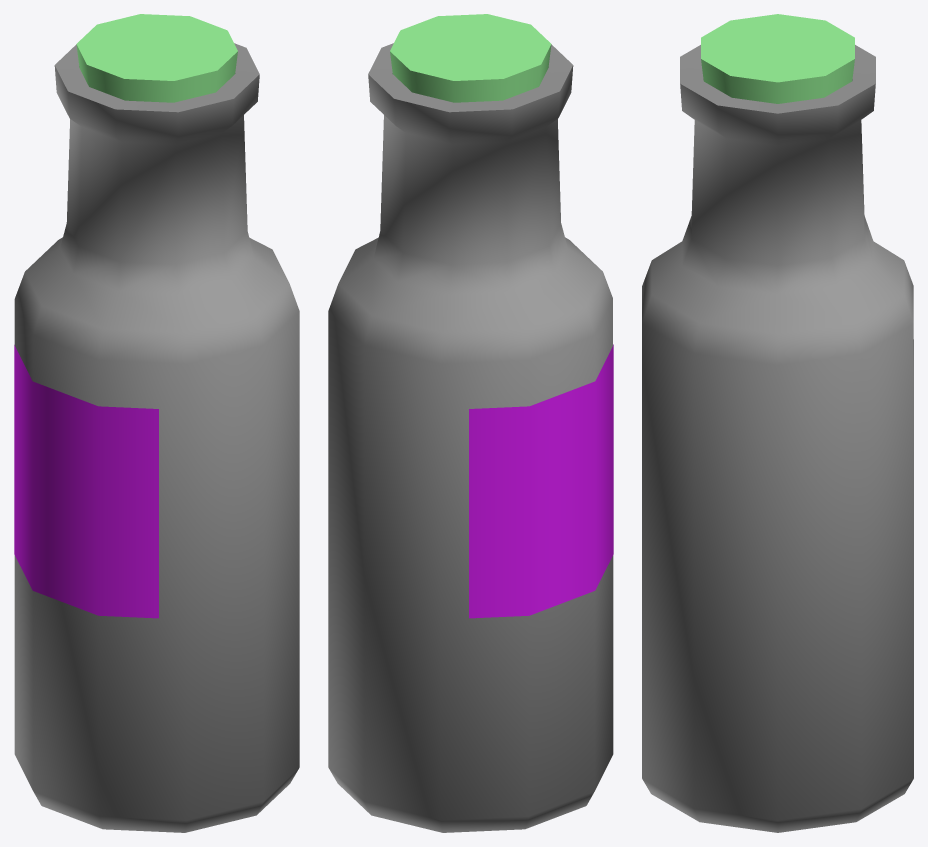
The model's file is Flask02.FBX.
The picture shows the model from 3 angles, left to right: view 1: azimuth 30°, elevation 25°; view 2: azimuth 150°, elevation 25°; view 3: azimuth 270°, elevation 25°; orthographic projection.
Visible parts, largest first — view 1: Flask_02; view 2: Flask_02; view 3: Flask_02.
Boxes of the visible parts, x1,y1,x2,y2 form: Flask_02: (14, 14, 299, 832); Flask_02: (328, 14, 613, 832); Flask_02: (642, 14, 913, 832).
Size of the model in its own units: 0.6375 by 1.79 by 0.6053.
